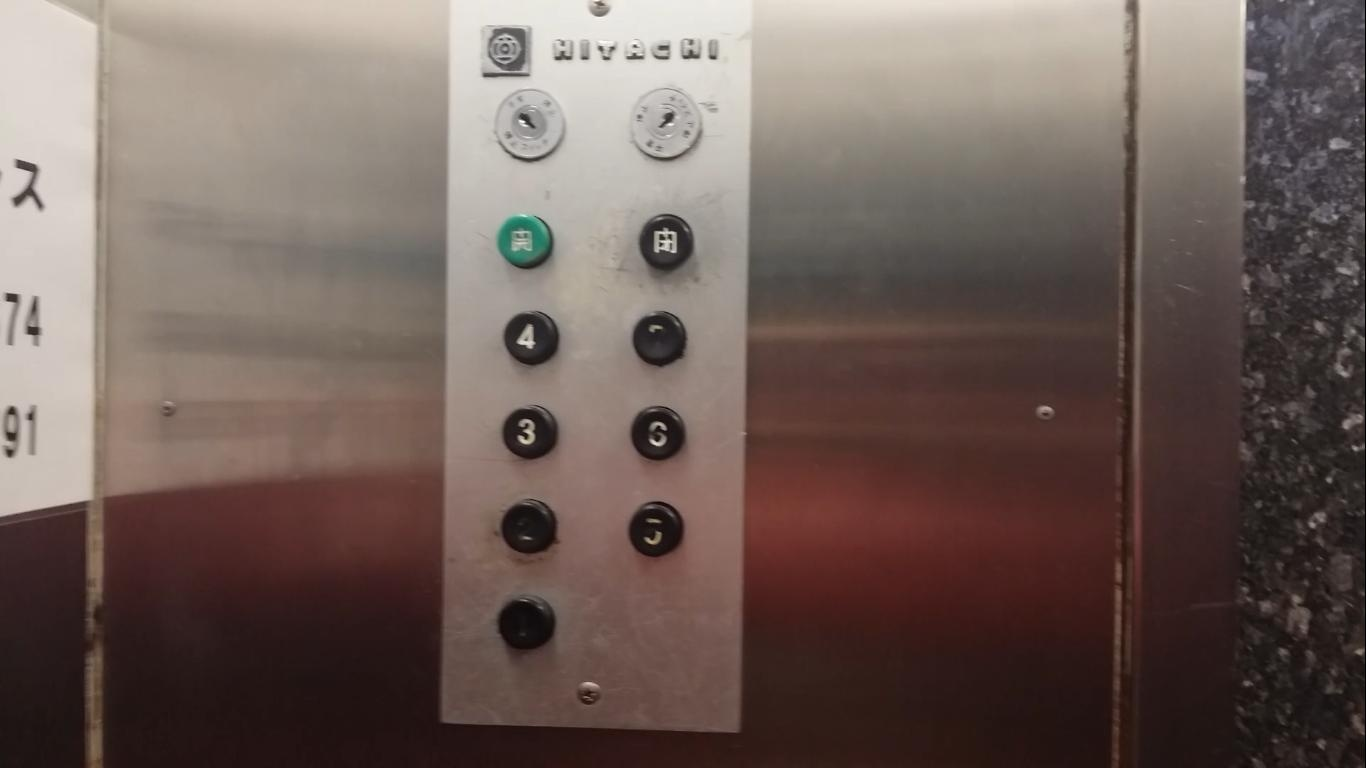1: (496, 593, 556, 651)
2: (499, 493, 556, 555)
3: (498, 400, 558, 460)
4: (501, 309, 561, 367)
6: (629, 404, 686, 461)
blur: (625, 497, 685, 557), (630, 308, 688, 369)
keyhole: (494, 88, 564, 160), (631, 88, 701, 160)
text: (639, 214, 693, 270), (497, 215, 552, 268)
unknown: (480, 24, 532, 76)
